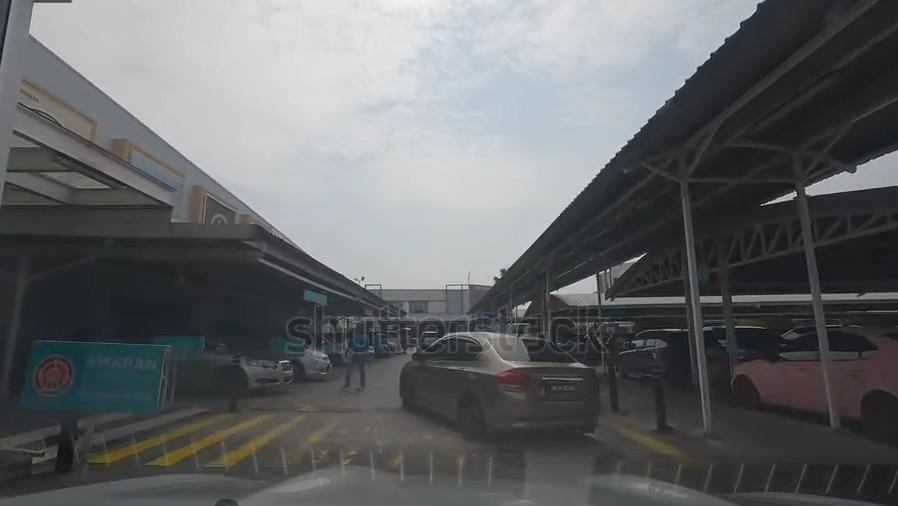car: (397, 335, 597, 426), (735, 329, 897, 412), (161, 330, 290, 391), (614, 334, 721, 381), (281, 346, 327, 379), (327, 340, 347, 361), (416, 328, 438, 346), (370, 343, 375, 359)
pedestrian: (81, 423, 720, 480)
person: (349, 320, 368, 386)
speedbump: (252, 401, 624, 412)
wheel: (461, 398, 483, 435), (221, 363, 242, 392), (403, 375, 414, 407)
